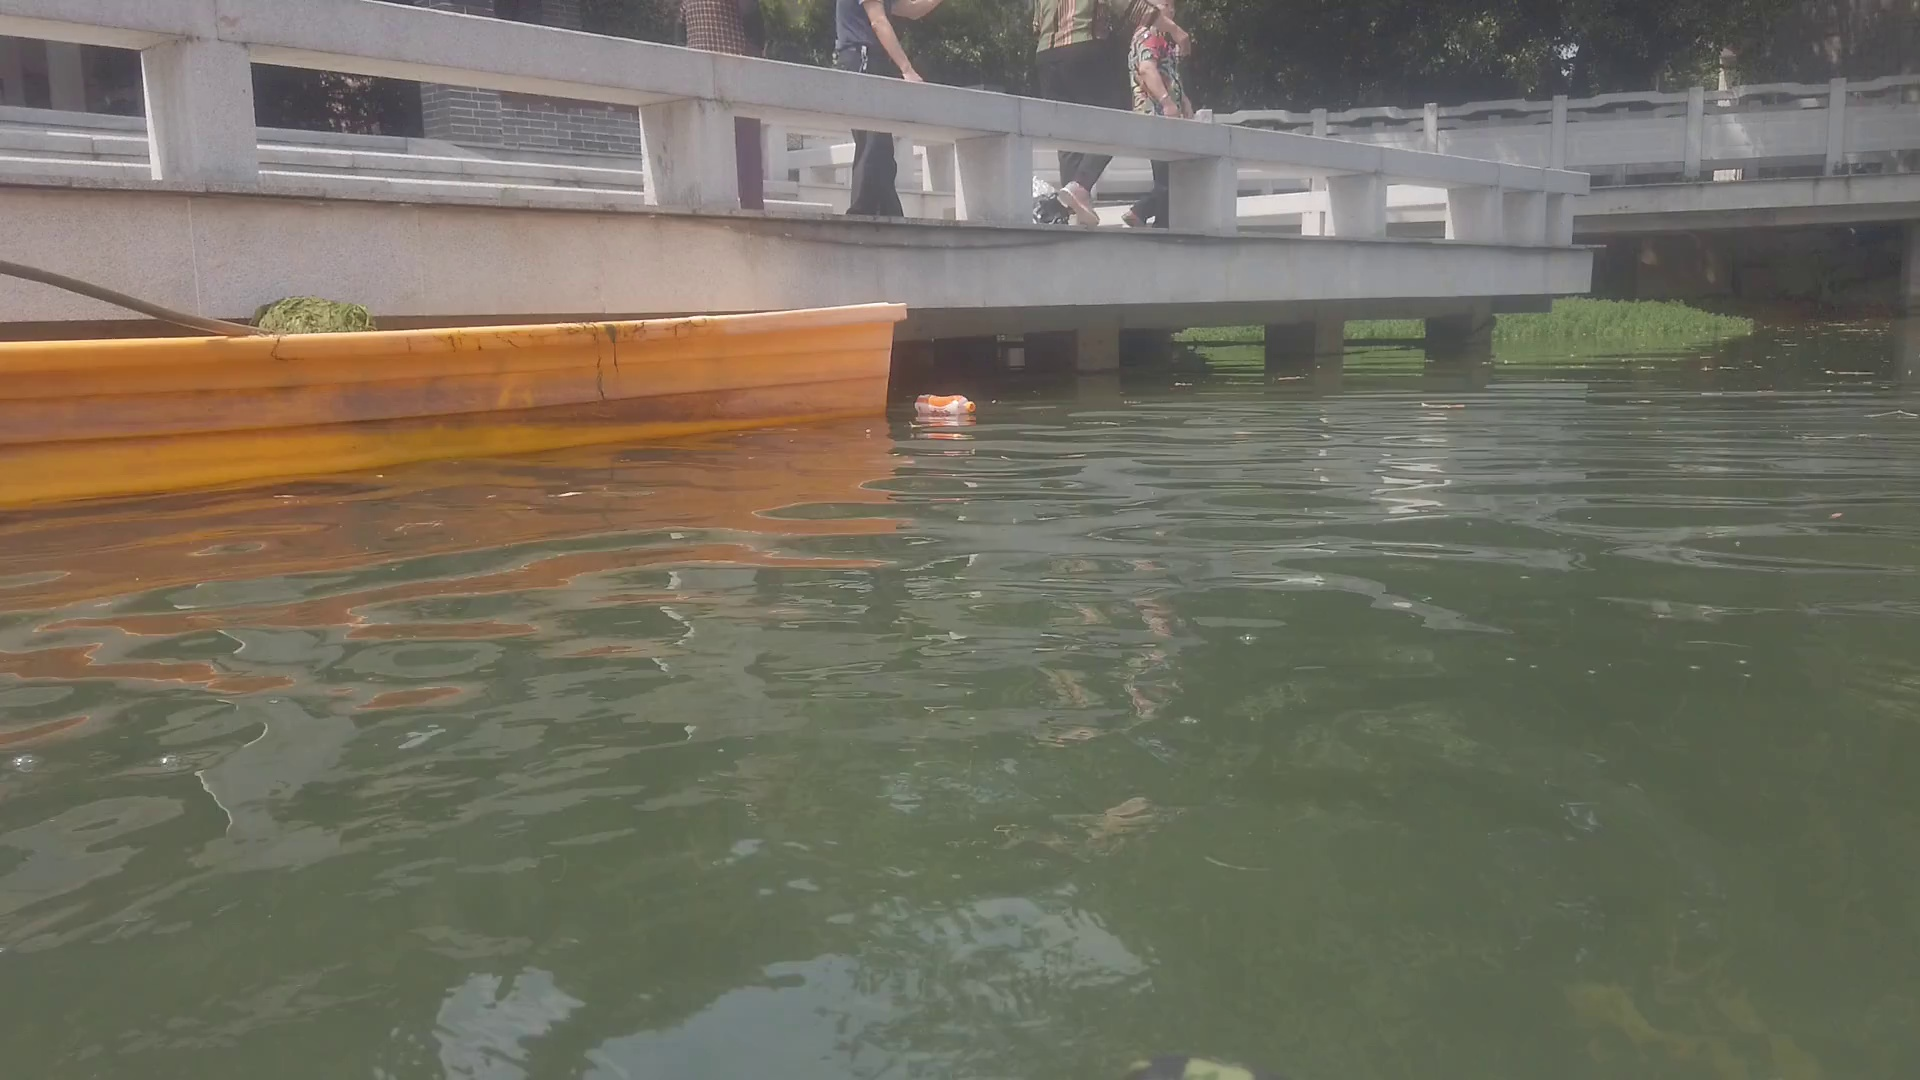bottle: (909, 394, 975, 417)
